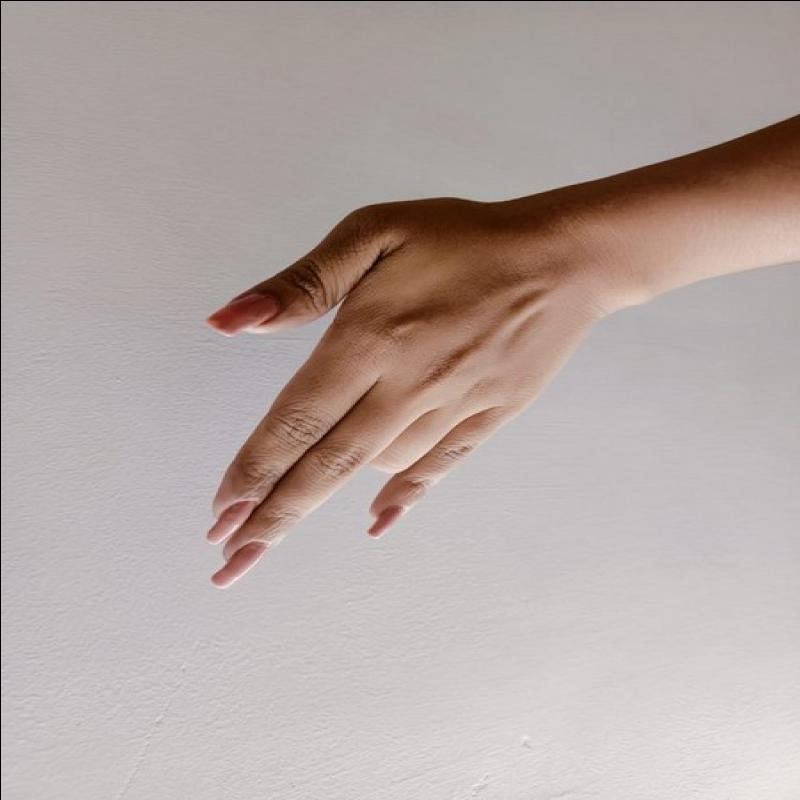Pathaaka: (174, 121, 573, 670)
